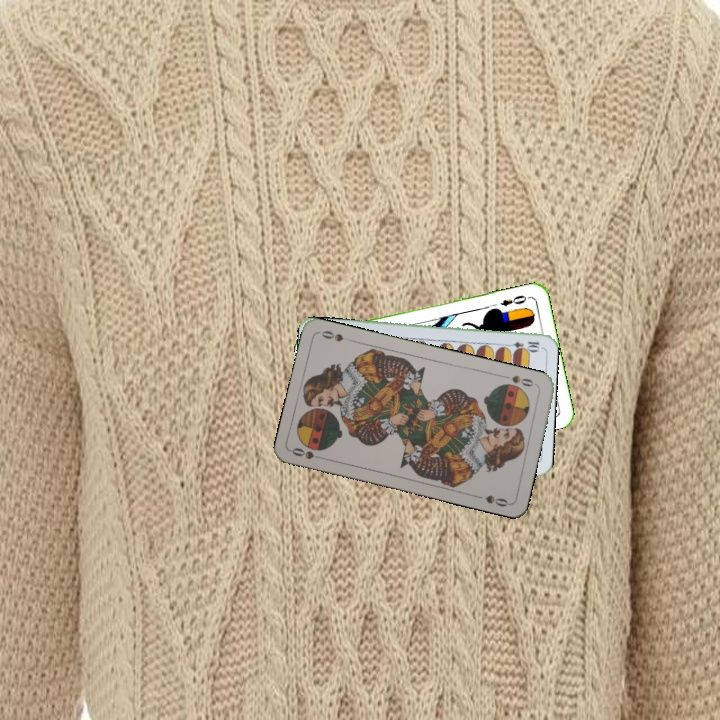E10: (501, 337, 542, 352)
EO: (496, 291, 533, 309)
SO: (288, 443, 328, 462), (500, 371, 540, 389)
